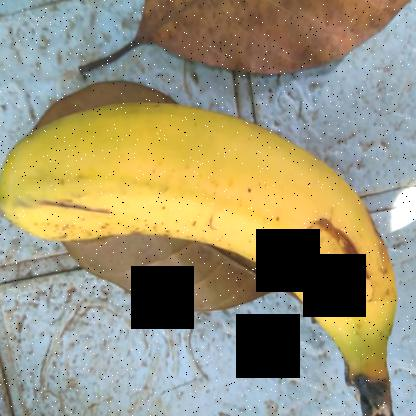ripe: (0, 77, 415, 393)
